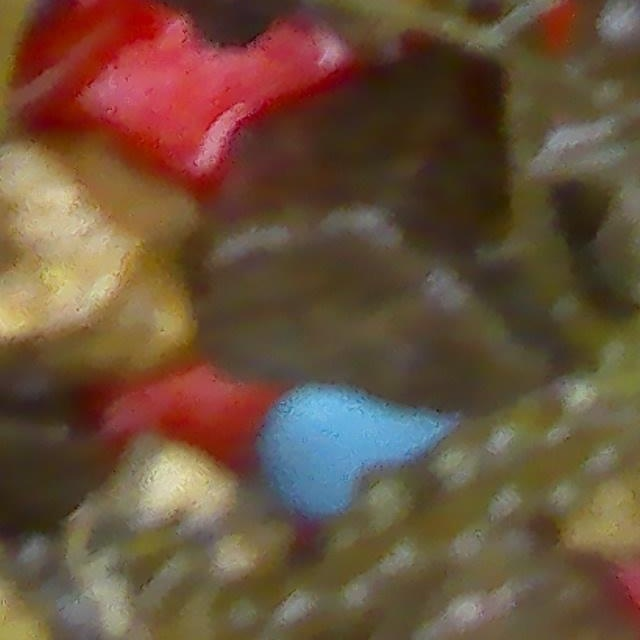SeaGrape: (590, 0, 640, 60)
